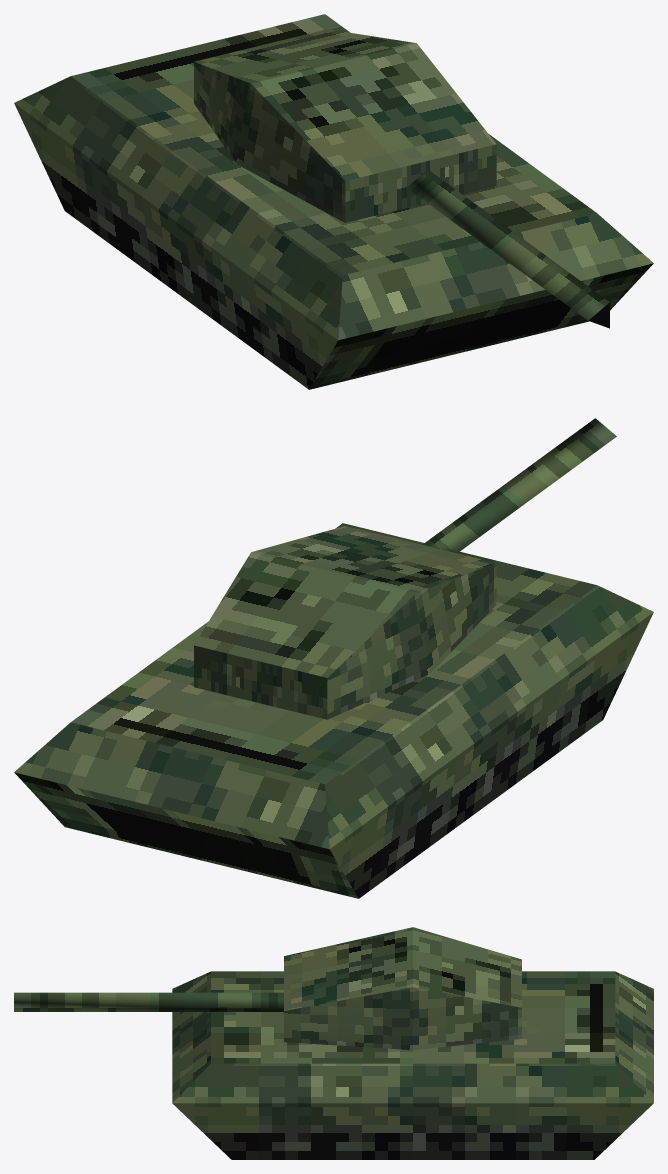
Rendered from tank.fbx.
3 renders of one model, top to bottom at view 1: azimuth 30°, elevation 25°; view 2: azimuth 150°, elevation 25°; view 3: azimuth 270°, elevation 25°, orthographic. The views are drawn at different scales.
Parts seen in each view (by area): view 1: mesh_0; view 2: mesh_0; view 3: mesh_0.
Part boxes in pixels (x1,y1,x2,y2): mesh_0: (14,14,653,389); mesh_0: (14,418,653,898); mesh_0: (14,927,653,1159).
Size of the model in its own units: 17.91 by 10.9 by 42.32.
Materials: 1 (1 with a texture image).
